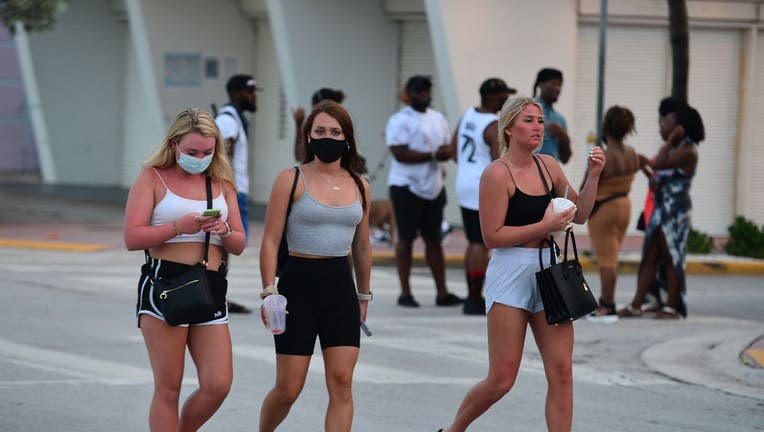with_mask: (173, 130, 215, 175), (310, 117, 346, 165)
without_mask: (516, 105, 543, 152)
